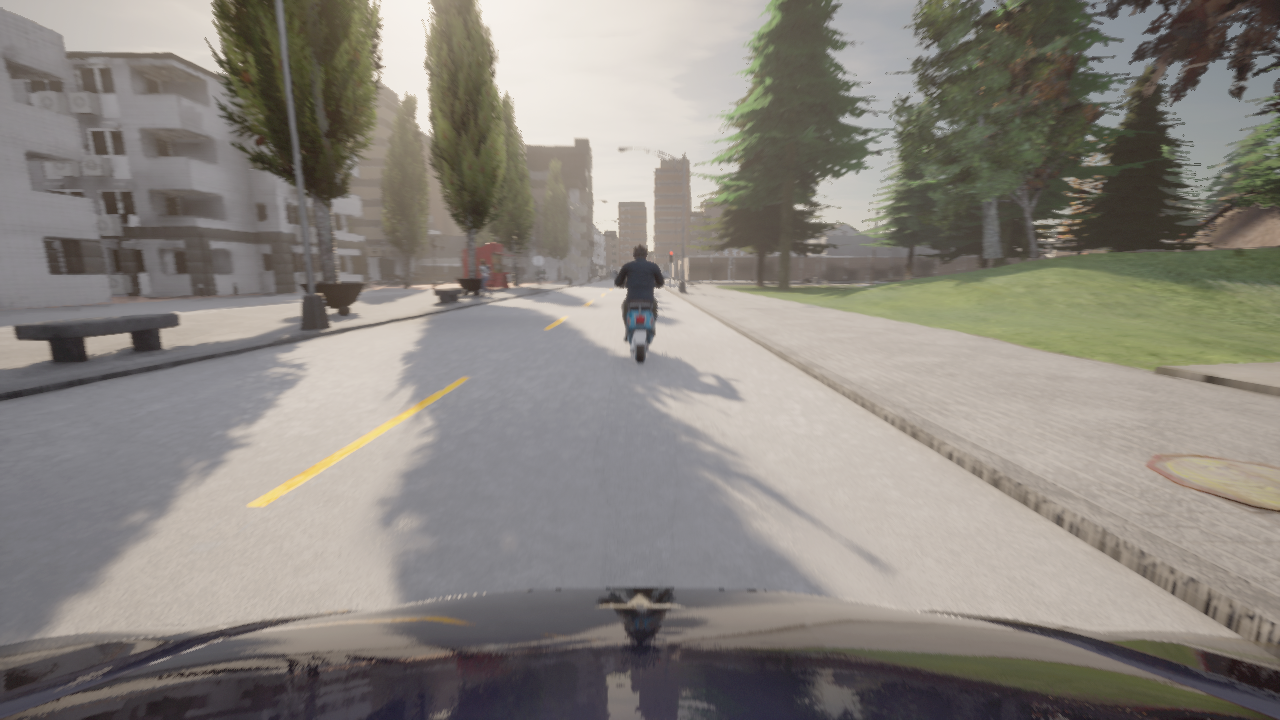cyclist: (0, 588, 1279, 719), (611, 271, 668, 363), (800, 274, 822, 284)
pedestrian: (476, 259, 492, 297)
